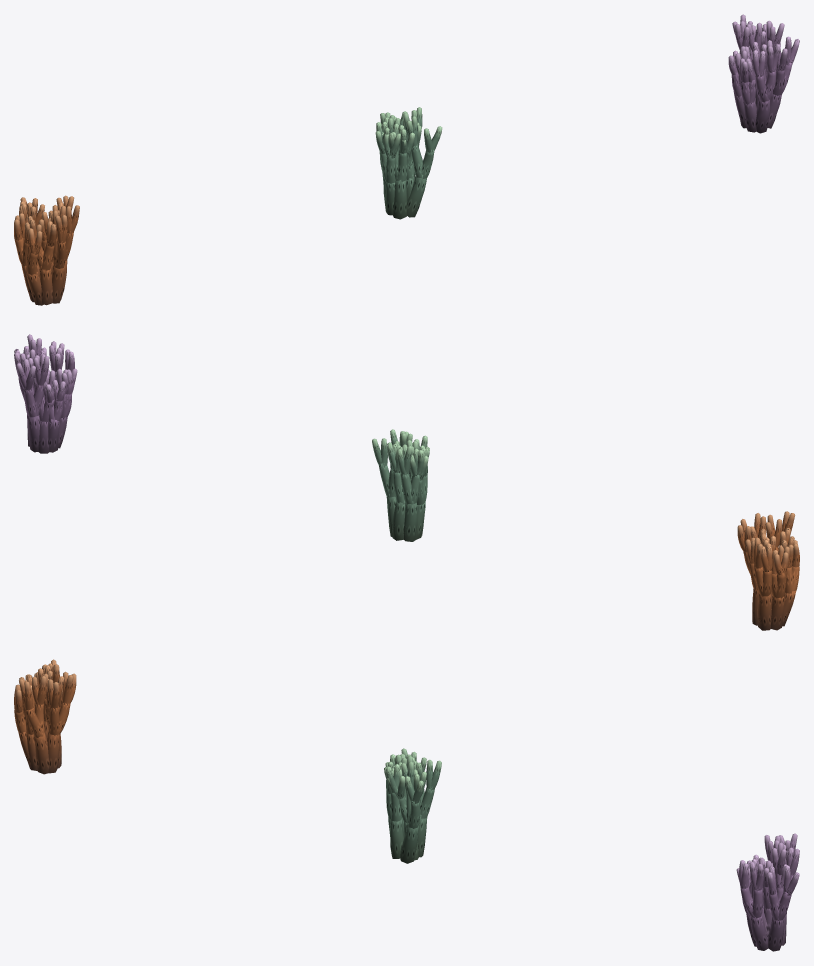
3 renders of one model, top to bottom at view 1: azimuth 30°, elevation 25°; view 2: azimuth 150°, elevation 25°; view 3: azimuth 330°, elevation 25°, orthographic.
Parts seen in each view (by area): view 1: finger-montipora-2, finger-montipora-0, finger-montipora-1; view 2: finger-montipora-0, finger-montipora-2, finger-montipora-1; view 3: finger-montipora-2, finger-montipora-0, finger-montipora-1.
Boxes of the visible parts, x1,y1,x2,y2 form: finger-montipora-2: (728,14,799,133); finger-montipora-0: (14,195,79,305); finger-montipora-1: (375,107,442,219); finger-montipora-0: (737,511,799,630); finger-montipora-2: (14,334,77,453); finger-montipora-1: (372,429,429,541); finger-montipora-2: (736,833,799,951); finger-montipora-0: (14,659,76,774); finger-montipora-1: (384,748,441,863).
Bounding box in the file's own units: 1.3 × 0.1683 × 0.1168.
Materials: 1 (1 with a texture image).
